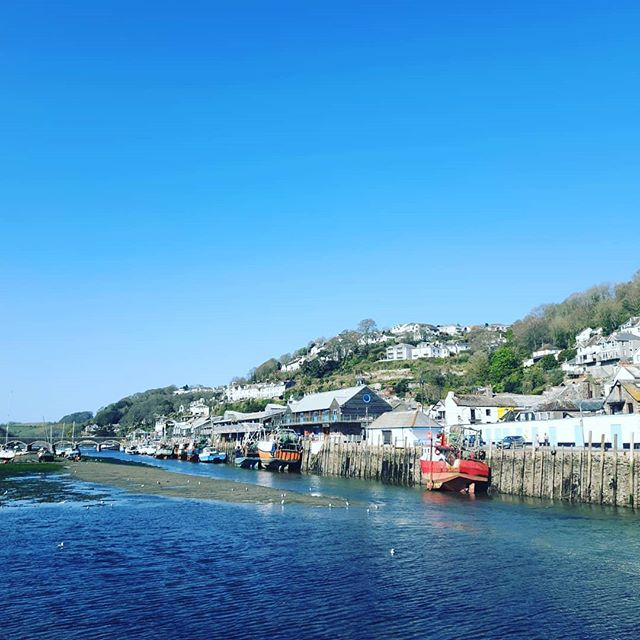boat: (420, 415, 491, 508), (249, 420, 312, 472)
building: (423, 375, 586, 423), (286, 382, 390, 420), (570, 326, 635, 383)
river: (1, 463, 640, 639)
sky: (1, 1, 640, 399)
